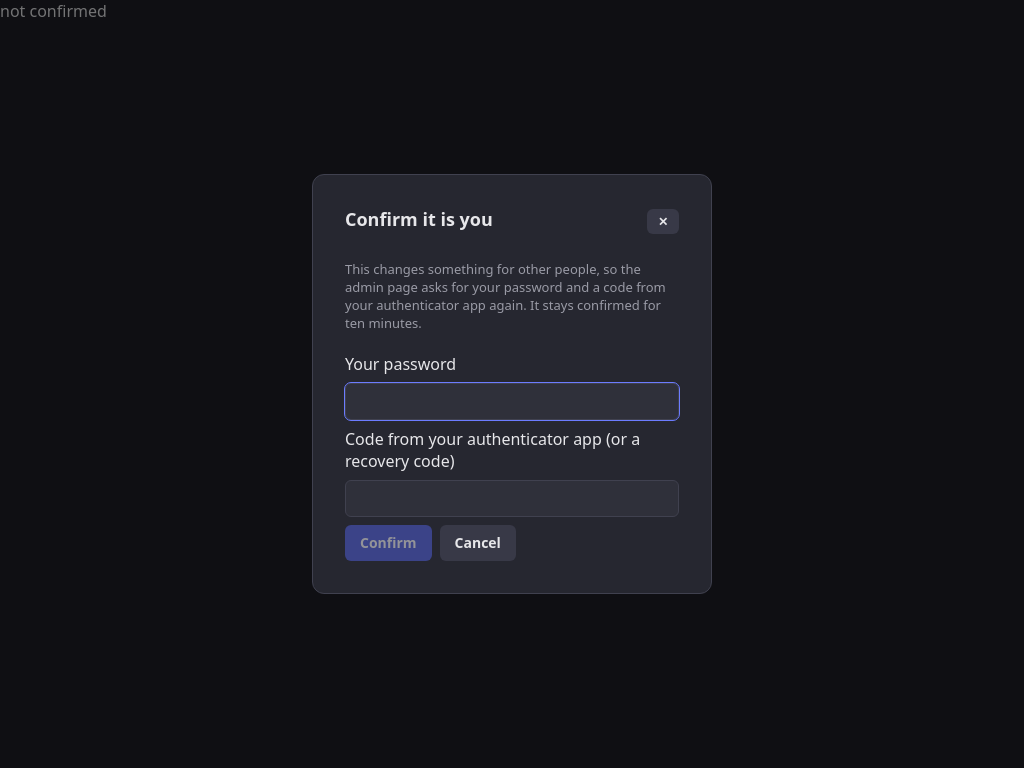
Test: sudo mode › needs both fields before it will confirm
Expected: the button "Confirm" is disabled, left=345, top=525, right=432, bottom=561
Type "pw" into the password field labelled "Your password".
click(512, 402); type("pw")  # box left=345, top=383, right=679, bottom=420
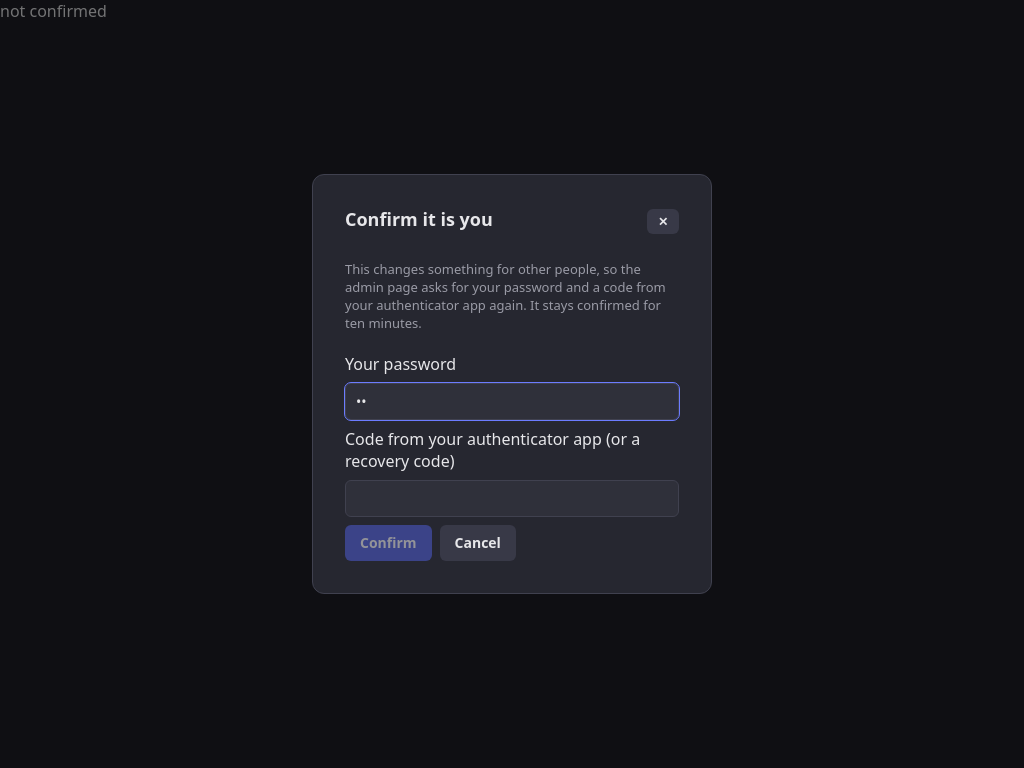
Expected: the button "Confirm" is disabled, left=345, top=525, right=432, bottom=561
Type "123456" into the field labelled "Code from your authenticator app (or a recovery code)".
click(512, 499); type("123456")  # box left=345, top=480, right=679, bottom=517
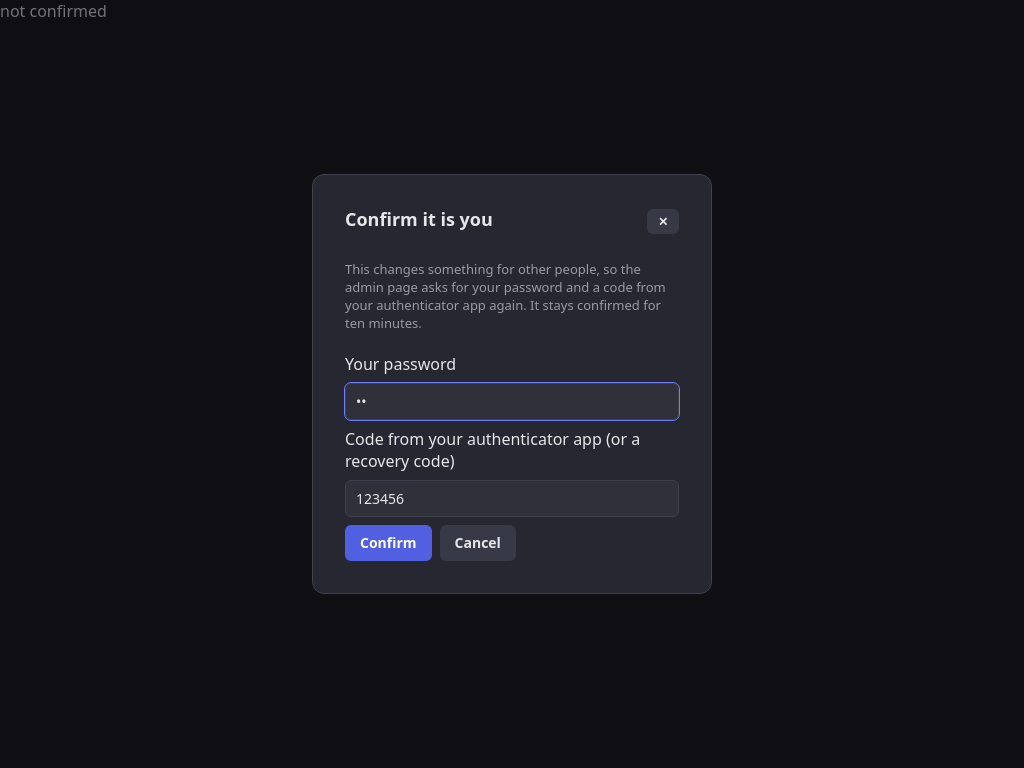
Now the button "Confirm" is enabled, box left=345, top=525, right=432, bottom=561
